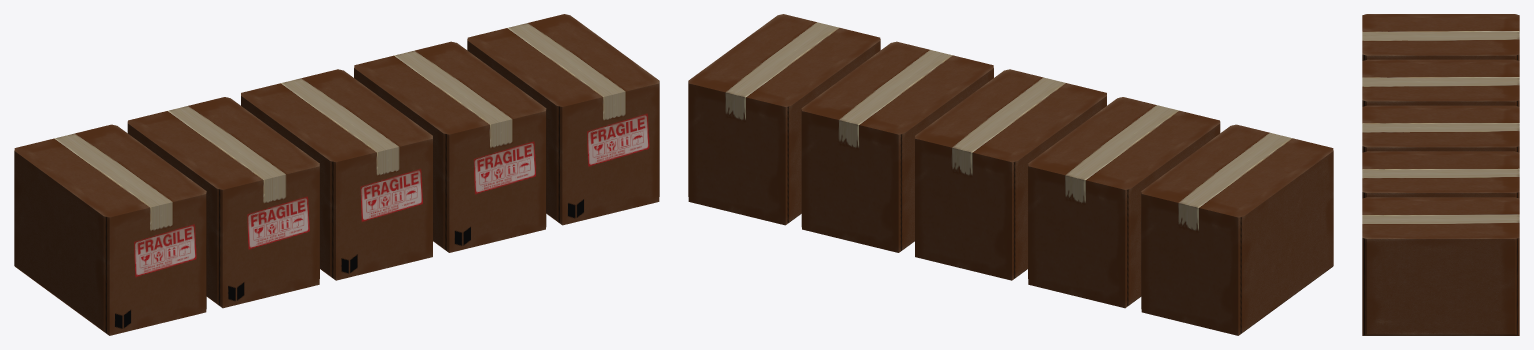
Rendered from box_pile4.fbx.
The picture shows the model from 3 angles, left to right: view 1: azimuth 30°, elevation 25°; view 2: azimuth 150°, elevation 25°; view 3: azimuth 270°, elevation 25°; orthographic projection. The views are drawn at different scales.
Visible parts, largest first — view 1: pile_boite_4; view 2: pile_boite_4; view 3: pile_boite_4.
Part boxes in pixels (box(x1,y1,x2,y2)): pile_boite_4: box(14, 14, 659, 335); pile_boite_4: box(688, 14, 1333, 335); pile_boite_4: box(1362, 14, 1519, 335).
Bounding box in the file's own units: 615 × 125 × 182.
